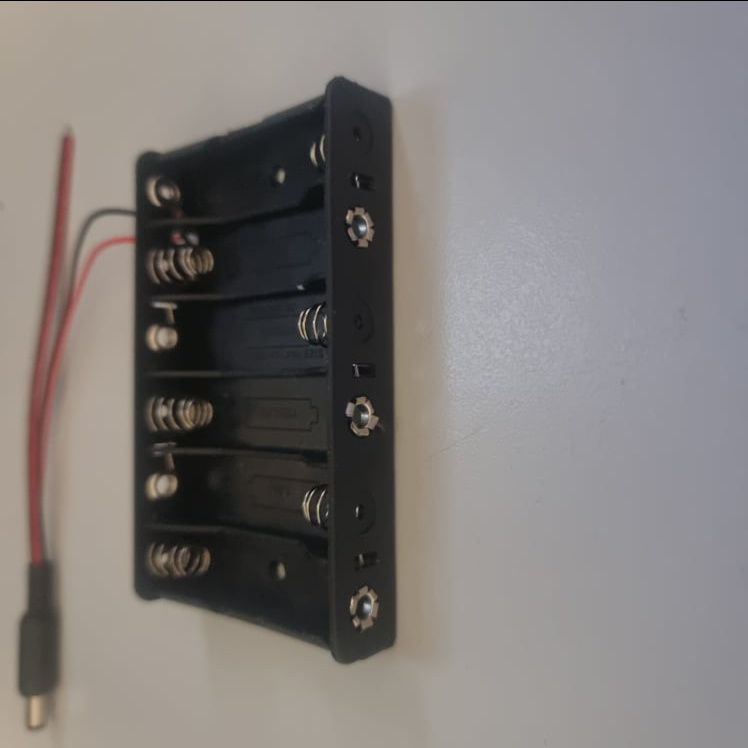BATTERY BOX: (130, 73, 396, 663)
